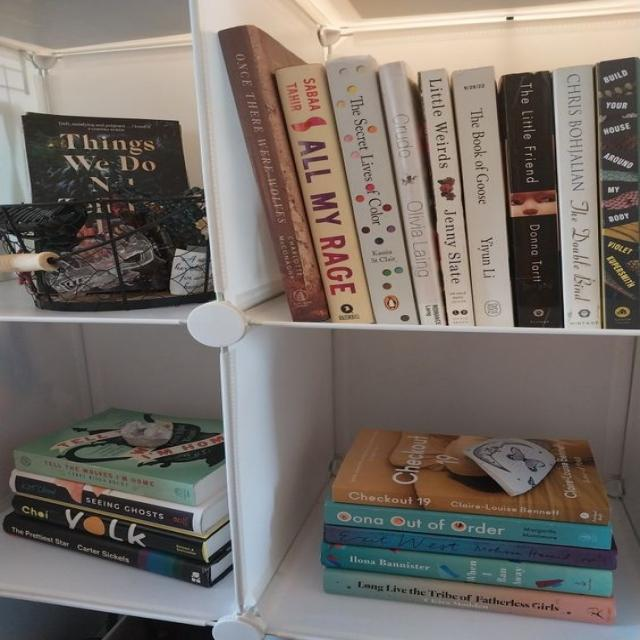book: (219, 25, 327, 322), (273, 64, 375, 323), (326, 55, 418, 325), (378, 63, 446, 326), (323, 570, 616, 626), (321, 543, 614, 597), (452, 66, 512, 326), (504, 71, 564, 328), (5, 516, 210, 587), (323, 502, 614, 550), (420, 70, 474, 326), (322, 526, 618, 571), (553, 66, 604, 327), (12, 497, 207, 564), (14, 472, 205, 539), (597, 57, 640, 329), (14, 450, 195, 506), (333, 489, 611, 525)
